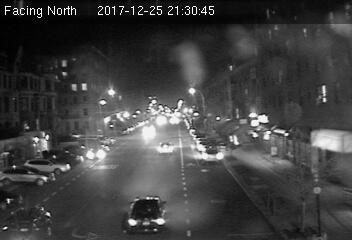car: (122, 192, 171, 234), (199, 148, 223, 163), (157, 141, 174, 153)
